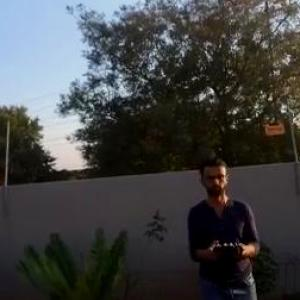follow: (181, 159, 267, 299)
